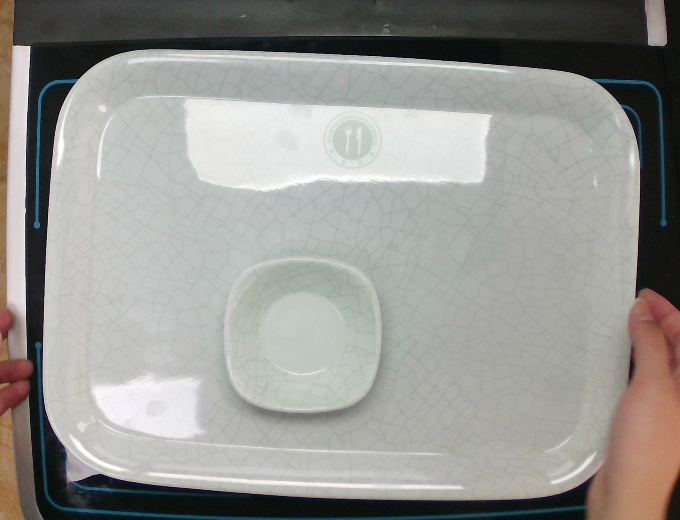JYsf-Si_Fang_Die: (221, 252, 385, 418)
